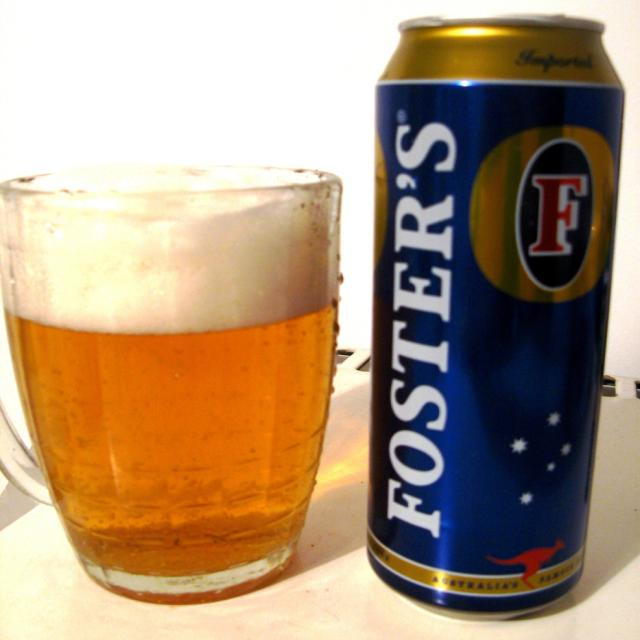fosters: (469, 124, 617, 306)
